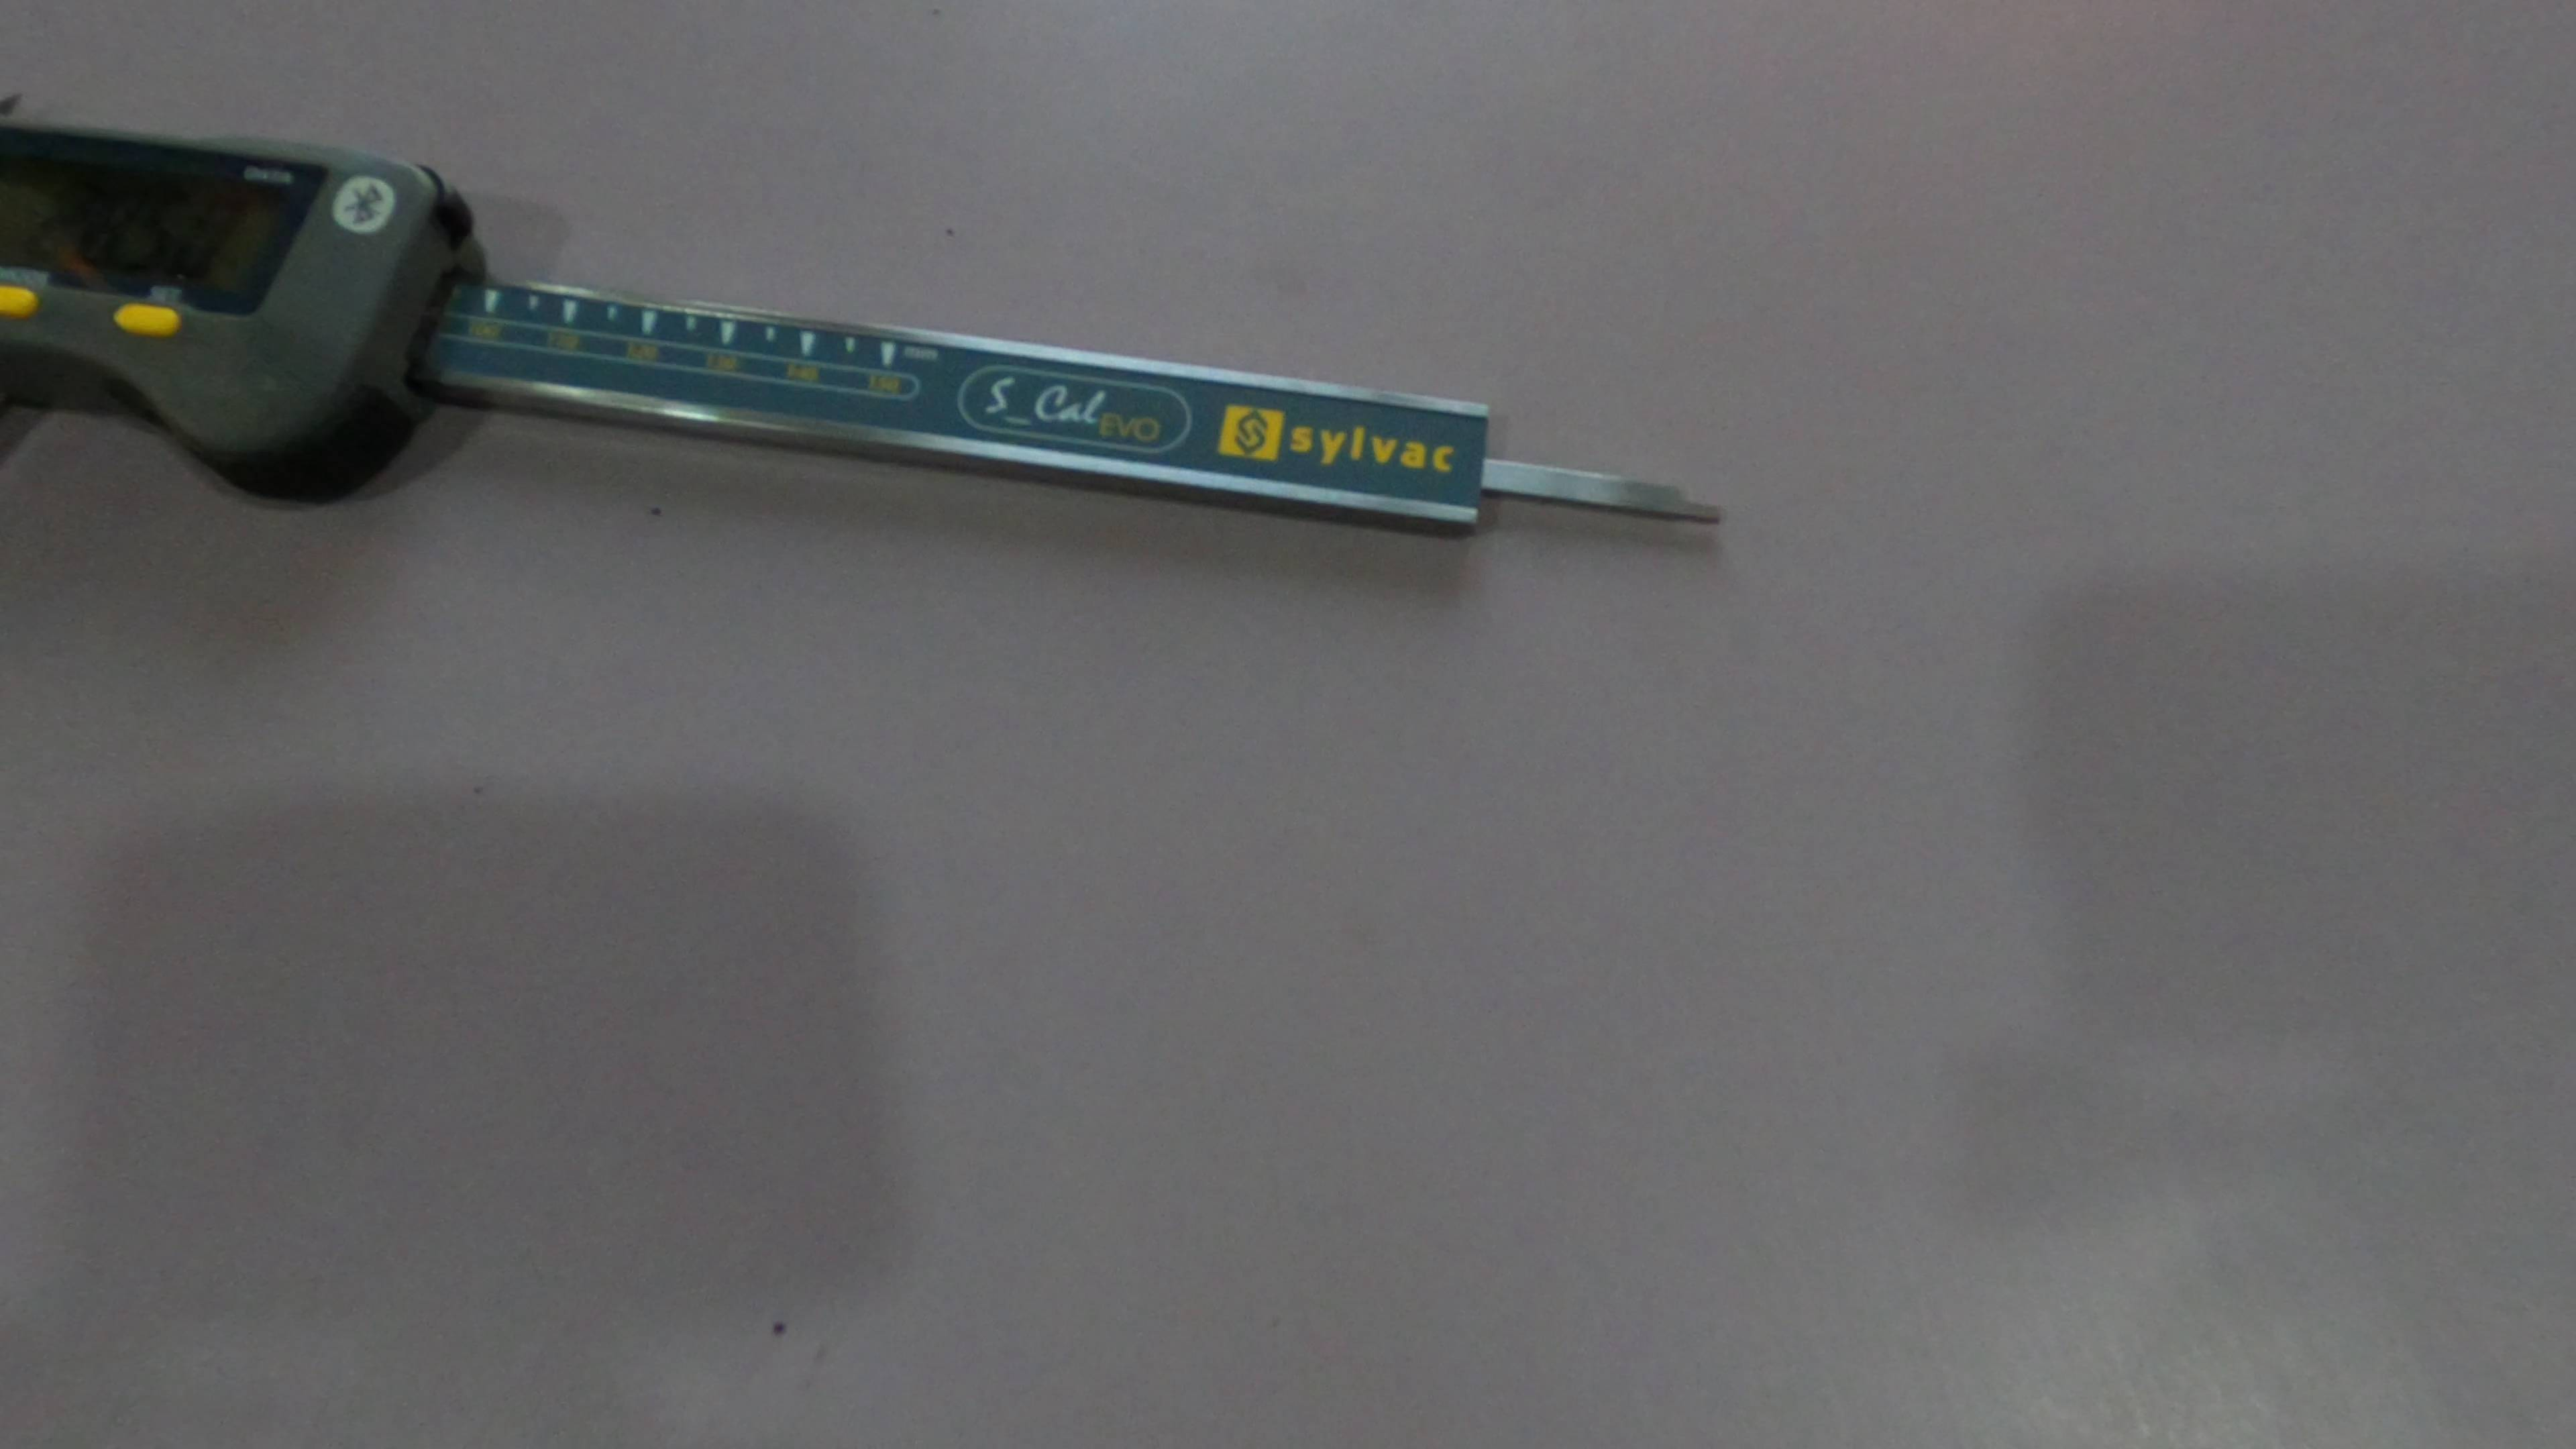vernier_caliper: (0, 106, 1729, 557)
